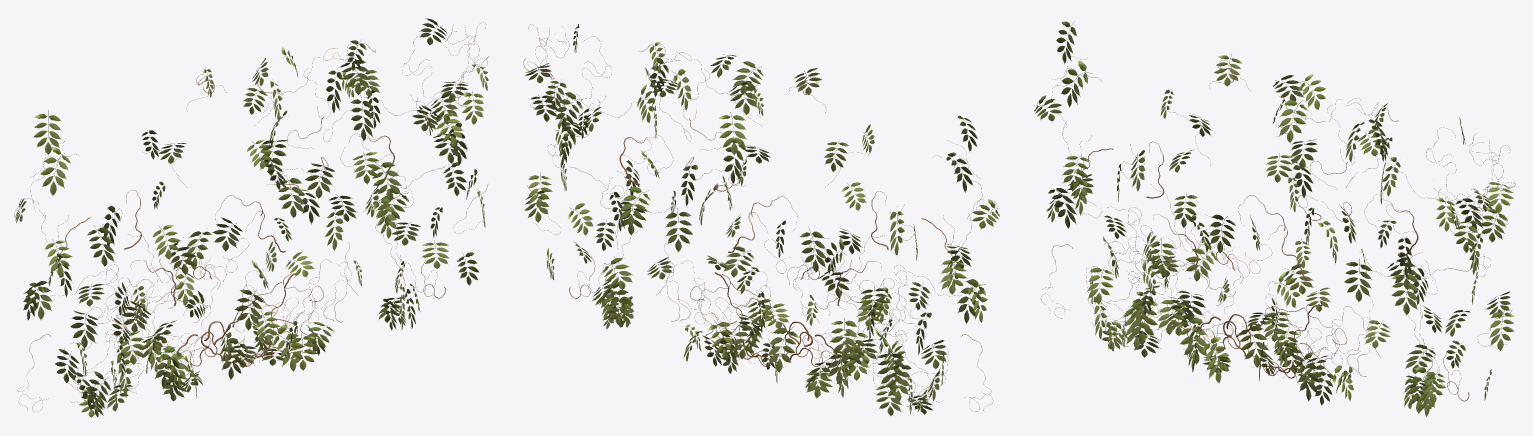
Rendered from liana_wall_lod1.gltf.
3 renders of one model, left to right at view 1: azimuth 30°, elevation 25°; view 2: azimuth 150°, elevation 25°; view 3: azimuth 330°, elevation 25°, orthographic.
Visible parts, largest first — view 1: visteria_wall_01; view 2: visteria_wall_01; view 3: visteria_wall_01.
Boxes of the visible parts, x1,y1,x2,y2 form: visteria_wall_01: (14,18,488,417); visteria_wall_01: (523,24,999,415); visteria_wall_01: (1034,21,1515,416).
Bounding box in the file's own units: 5.2 × 3.48 × 0.5128.
2 materials, 2 textured.
